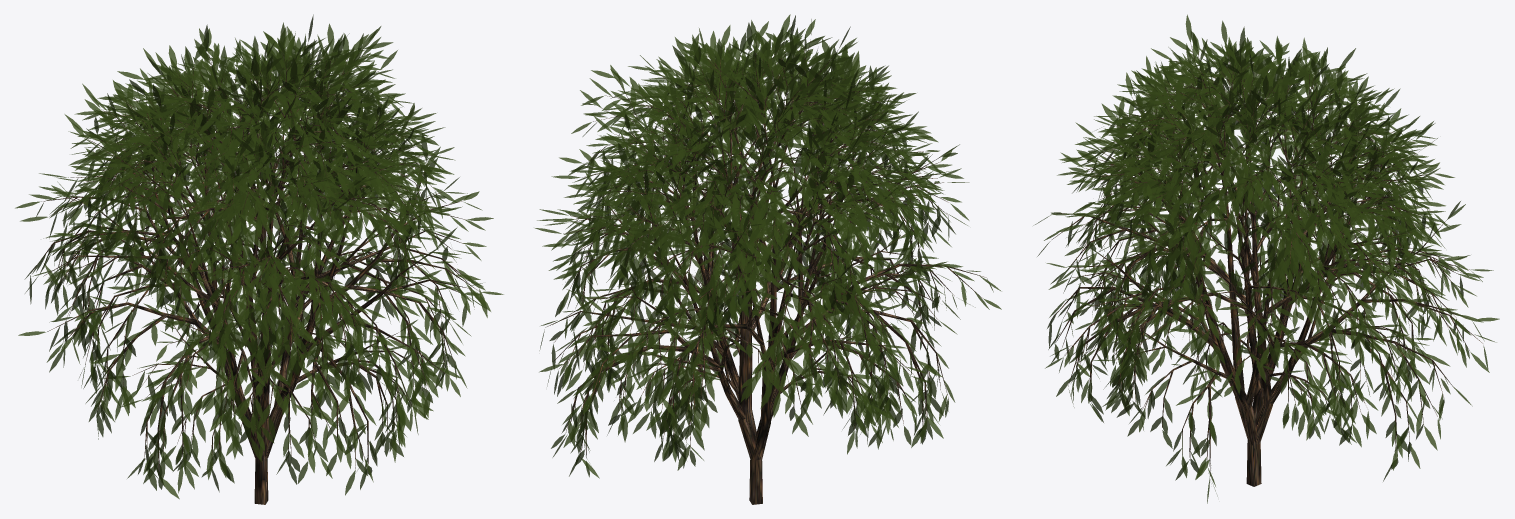
Rendered from Dark Wood Tree 4.fbx.
The picture shows the model from 3 angles, left to right: view 1: azimuth 30°, elevation 25°; view 2: azimuth 150°, elevation 25°; view 3: azimuth 270°, elevation 25°; orthographic projection. The views are drawn at different scales.
Visible parts, largest first — view 1: leaves.003, Dark Wood Tree 4; view 2: leaves.003, Dark Wood Tree 4; view 3: leaves.003, Dark Wood Tree 4.
Part boxes in pixels (x1=…): leaves.003: x1=15, y1=14, x2=503, y2=499; Dark Wood Tree 4: x1=31, y1=43, x2=479, y2=504; leaves.003: x1=535, y1=14, x2=1001, y2=478; Dark Wood Tree 4: x1=545, y1=41, x2=986, y2=504; leaves.003: x1=1033, y1=14, x2=1499, y2=503; Dark Wood Tree 4: x1=1052, y1=43, x2=1482, y2=486.
Size of the model in its own units: 893 by 1007 by 956.
